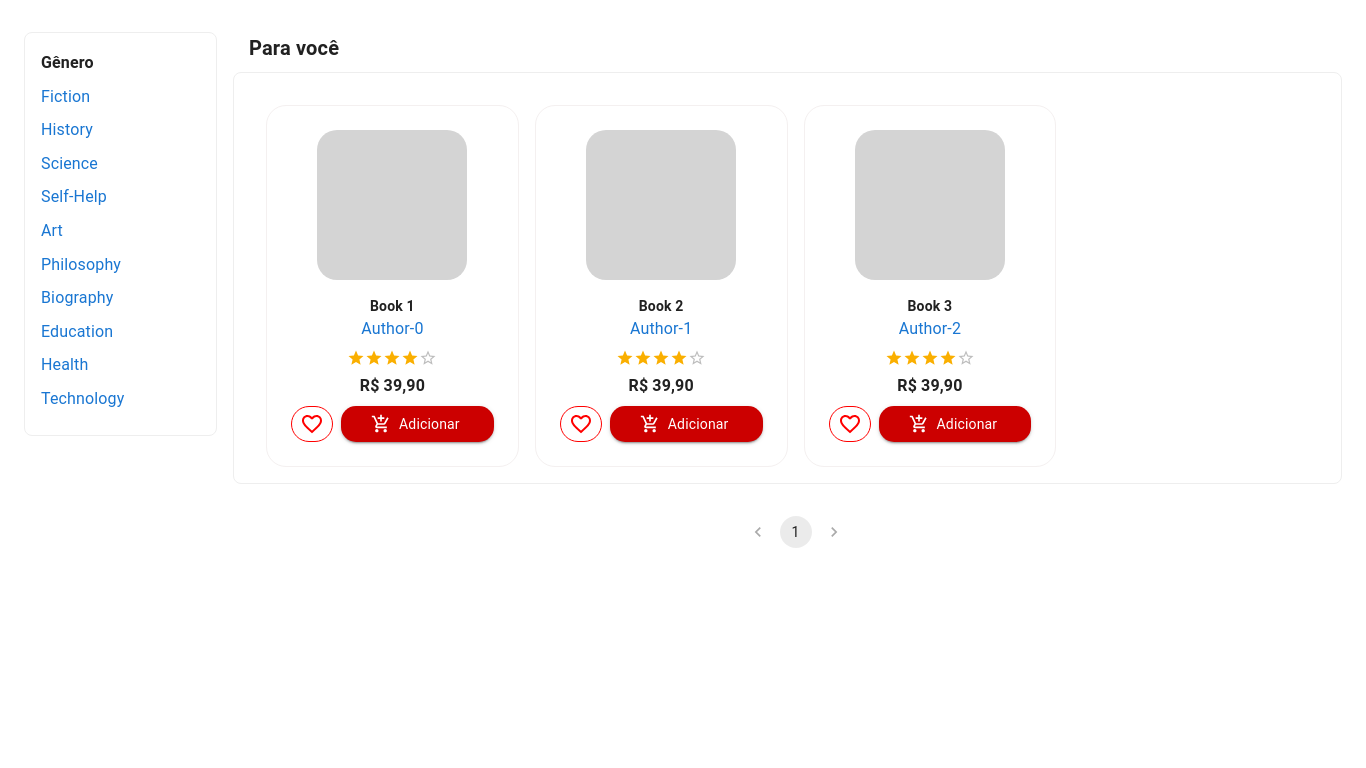
Test: BookStoreView › can filter books by genre
The image size is (1366, 768).
What coordinates should you click on to do the following:
click the button with test id "categories-button-Fiction"
I would click on:
 (66, 99)
Its box is [41,83,90,116].
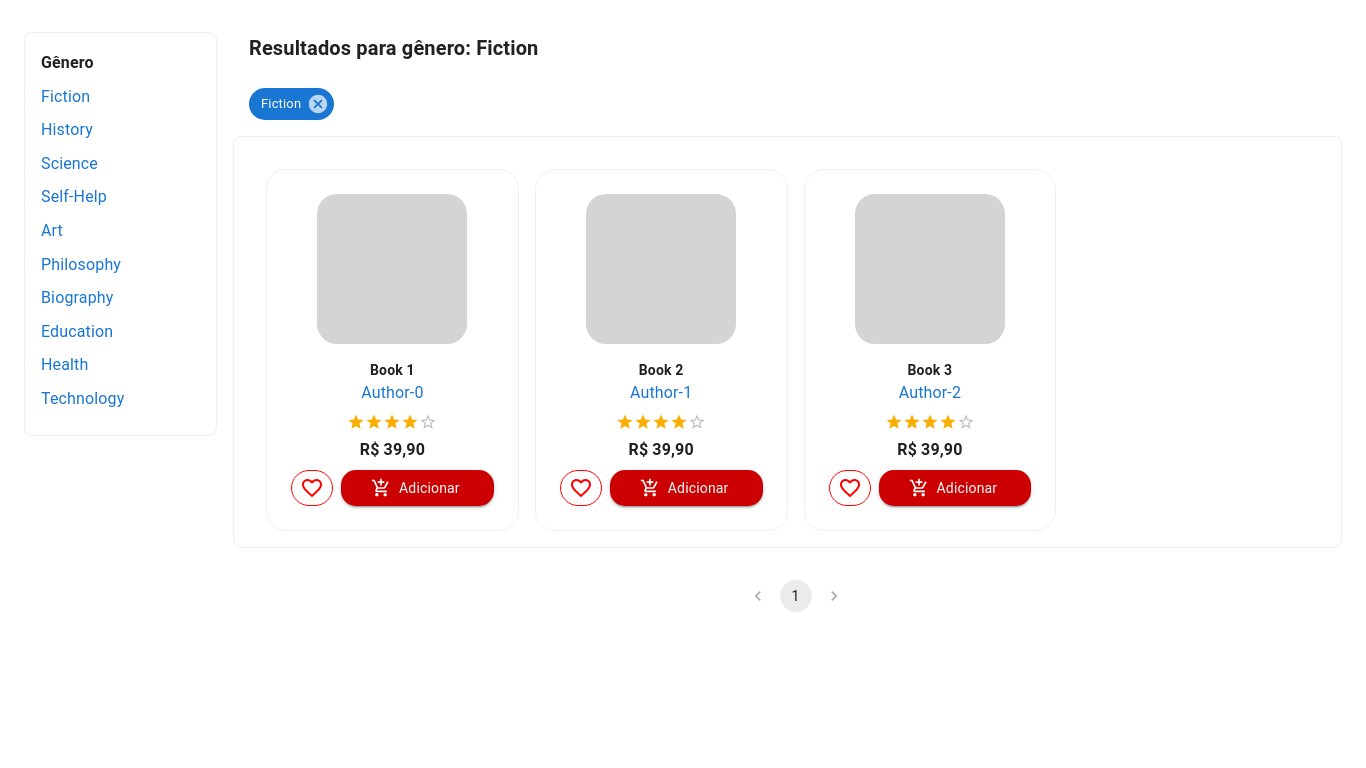
Check: the heading "Resultados para gênero: Fiction" is shown, box [249,36,538,60]
